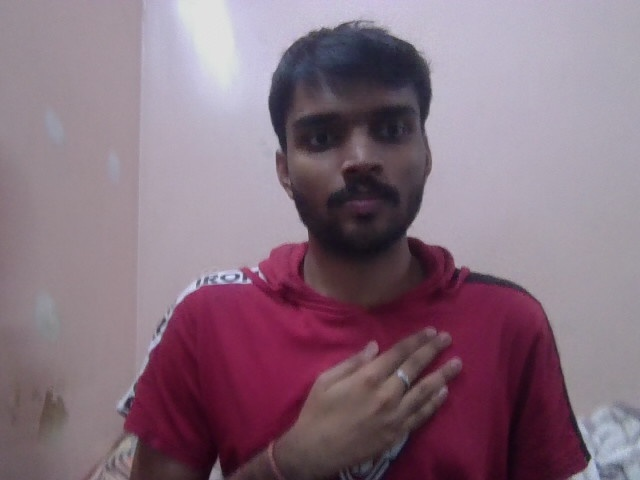Please: (304, 322, 464, 457)
